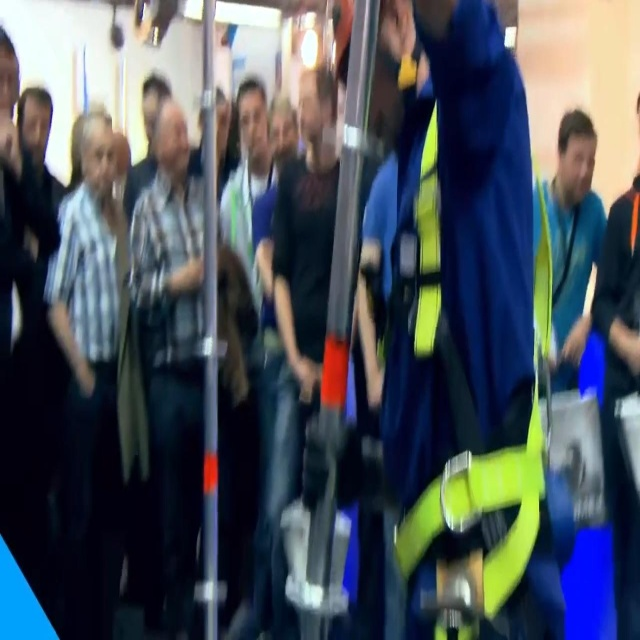Arnes_seguridad: (388, 64, 557, 634)
